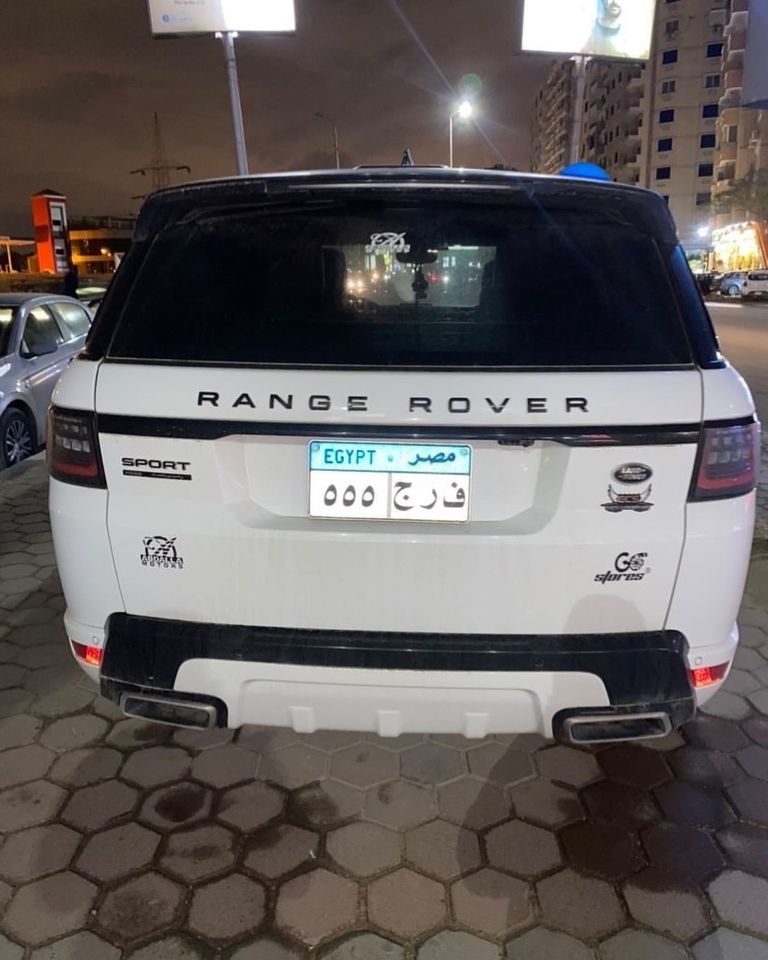carpl: (309, 463, 472, 518)
